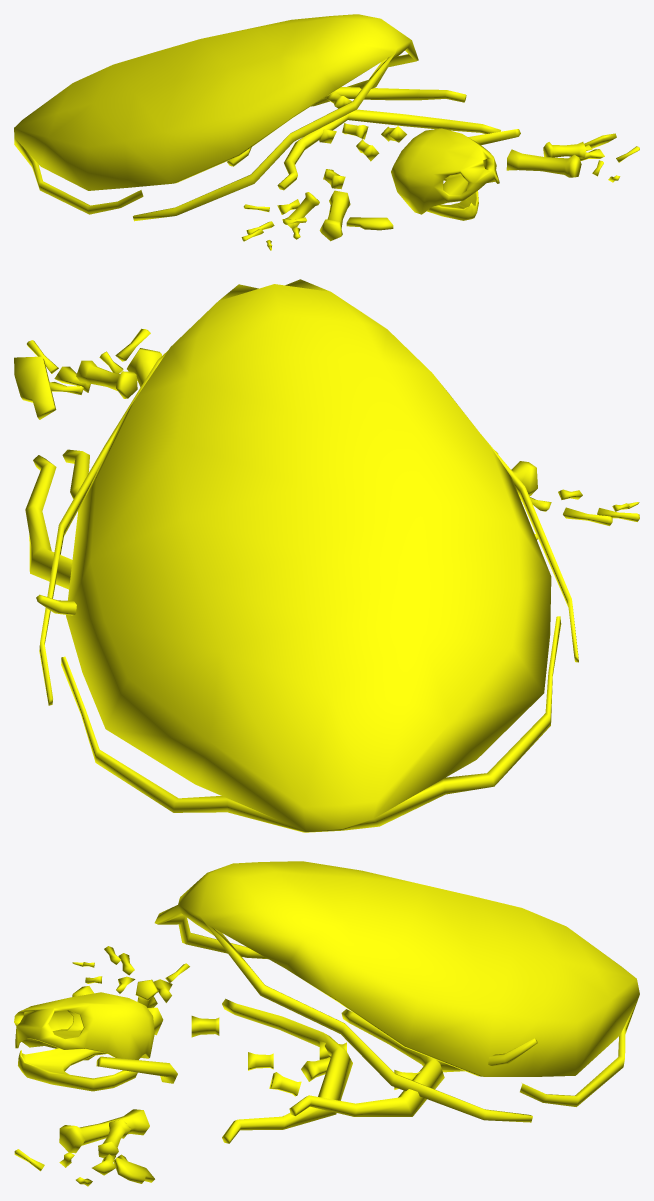
Rendered from bone_turtle_all00.glb.
3 views of the same model, one above another, from view 1: azimuth 30°, elevation 25°; view 2: azimuth 150°, elevation 25°; view 3: azimuth 270°, elevation 25° (orthographic). The views are drawn at different scales.
Parts seen in each view (by area): view 1: bone_turtle_all00; view 2: bone_turtle_all00; view 3: bone_turtle_all00.
Boxes of the visible parts, x1,y1,x2,y2 form: bone_turtle_all00: (14,14,639,250); bone_turtle_all00: (14,279,639,832); bone_turtle_all00: (14,861,639,1186).
Bounding box in the file's own units: 8.86 × 3.67 × 8.52.
Materials: 1 (1 with a texture image).
